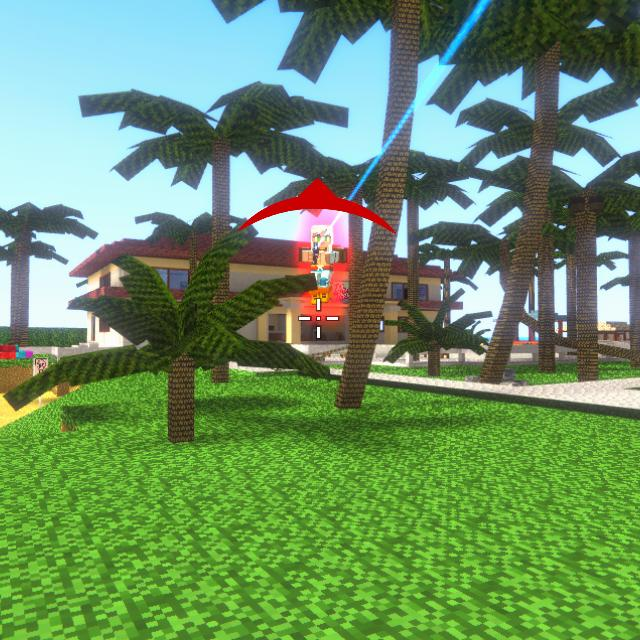Enemy: (297, 223, 345, 306)
